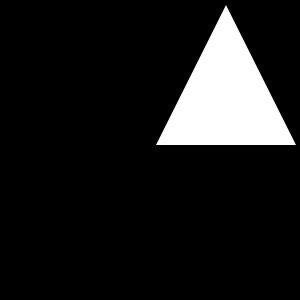triangle: (156, 5, 296, 145)
